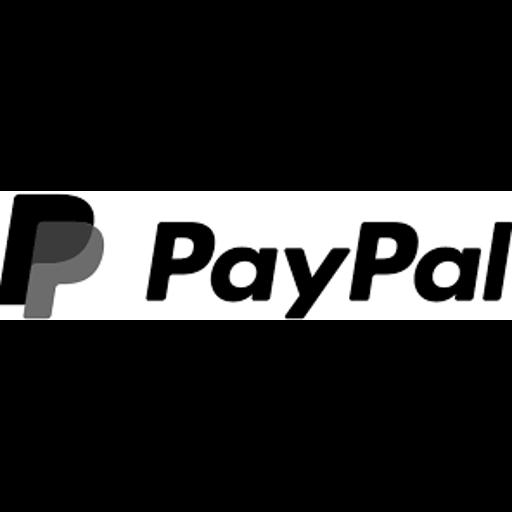PayPal: (0, 191, 512, 320)
